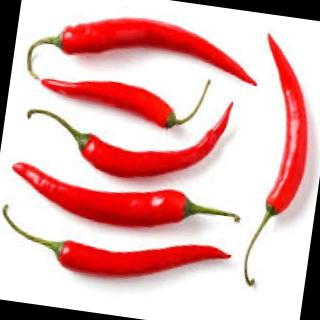Cabai Merah: (1, 209, 239, 299), (44, 78, 233, 190), (3, 158, 247, 244), (52, 6, 267, 86), (241, 31, 320, 215)
